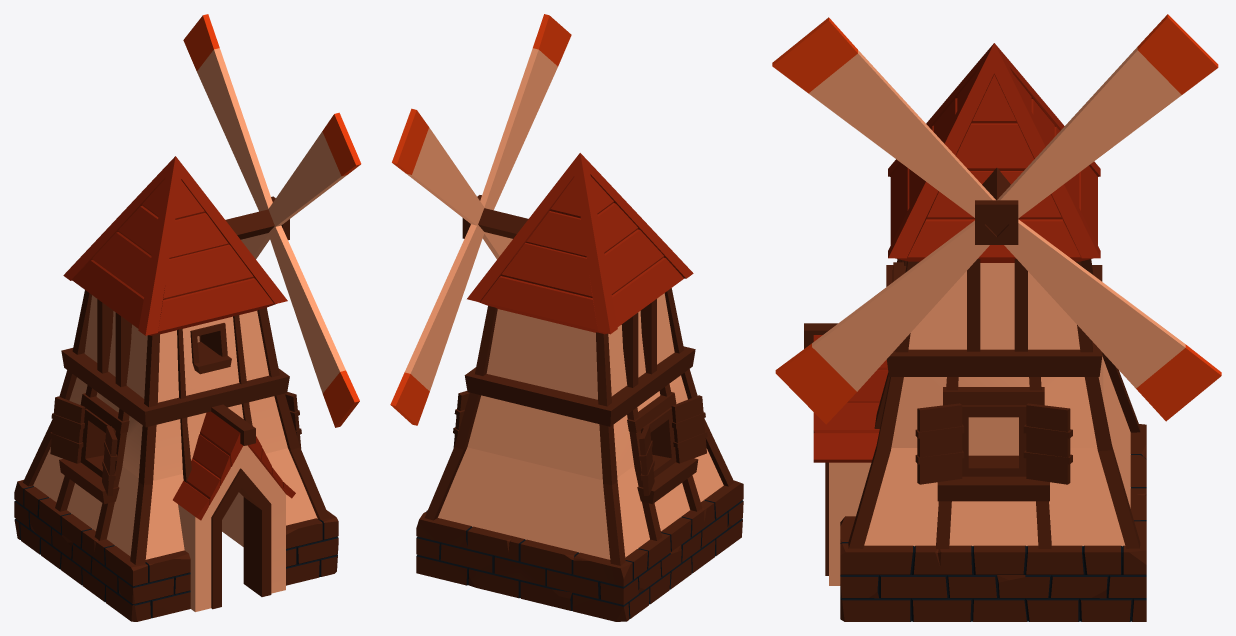
Rendered from Windmill.fbx.
The picture shows the model from 3 angles, left to right: view 1: azimuth 30°, elevation 25°; view 2: azimuth 150°, elevation 25°; view 3: azimuth 270°, elevation 25°; orthographic projection. The views are drawn at different scales.
Visible parts, largest first — view 1: Windmill; view 2: Windmill; view 3: Windmill.
Boxes of the visible parts, left/top/right/bottom form: Windmill: left=14, top=14, right=361, bottom=621; Windmill: left=390, top=14, right=743, bottom=621; Windmill: left=772, top=14, right=1221, bottom=621.
Bounding box in the file's own units: 122 × 260 × 176.
